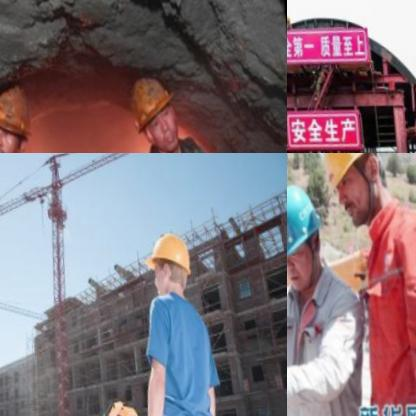helmet: (310, 153, 399, 231), (287, 163, 336, 296), (123, 65, 185, 153), (144, 218, 199, 304), (0, 89, 35, 153)
